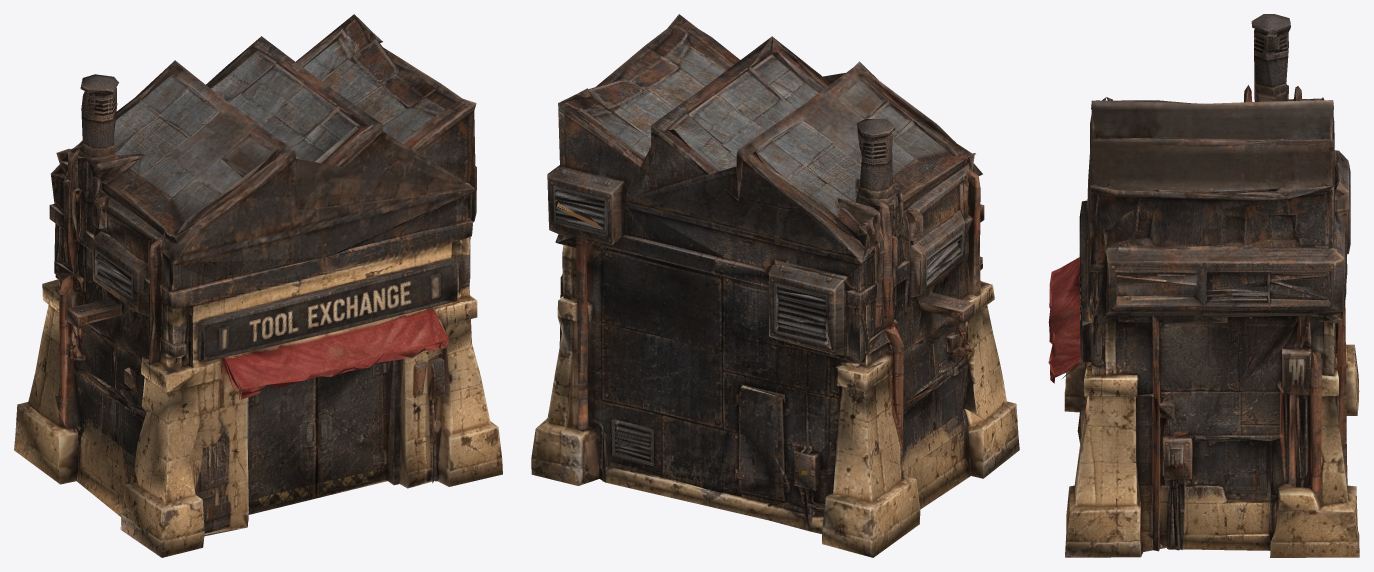
Rendered from tools.fbx.
The picture shows the model from 3 angles, left to right: view 1: azimuth 30°, elevation 25°; view 2: azimuth 150°, elevation 25°; view 3: azimuth 270°, elevation 25°; orthographic projection.
Visible parts, largest first — view 1: Mesh_0; view 2: Mesh_0; view 3: Mesh_0.
Boxes of the visible parts, x1,y1,x2,y2 form: Mesh_0: (14, 14, 502, 557); Mesh_0: (531, 14, 1019, 557); Mesh_0: (1048, 14, 1359, 557).
Bounding box in the file's own units: 182 × 190 × 135.
1 material, 1 textured.
